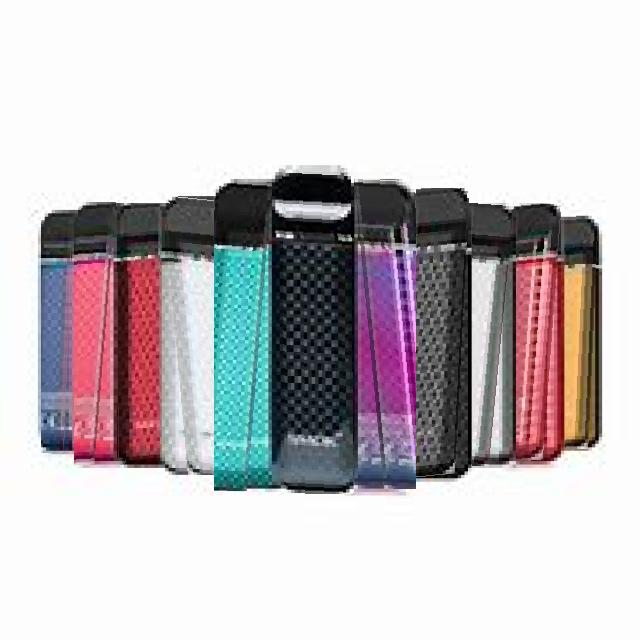Vapes: (273, 165, 354, 494), (354, 178, 416, 489), (214, 179, 272, 491), (416, 188, 470, 479), (163, 195, 214, 475), (516, 204, 562, 464), (116, 204, 160, 464), (472, 200, 514, 466), (74, 202, 116, 467), (565, 208, 599, 450), (41, 208, 73, 453)
